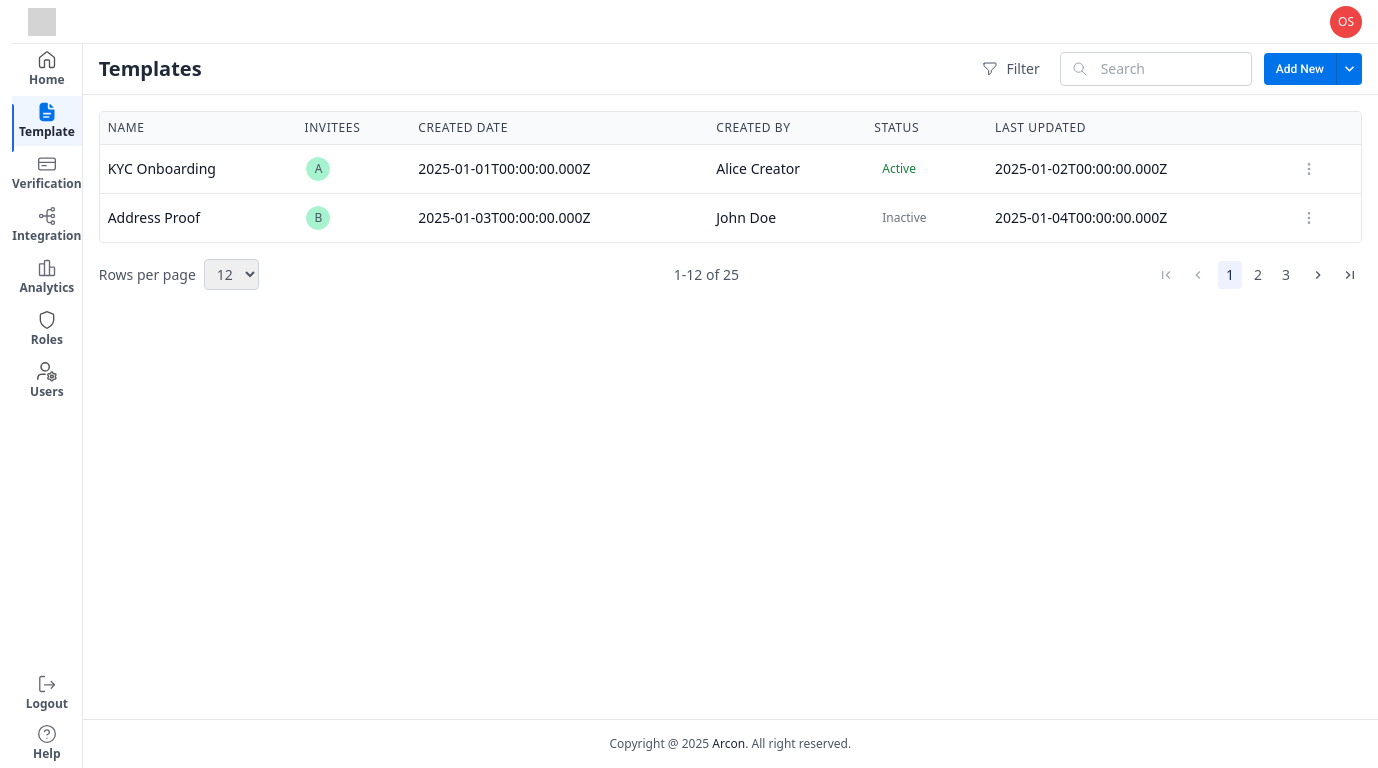
Test: Templates page › changes page size and resets page; range text updates
expect the text "1-12 of 25" is shown: met, box [674, 264, 739, 284]
Step 1. Select "24" in the dropdown showing "12" → (231, 274), box [204, 259, 259, 290]
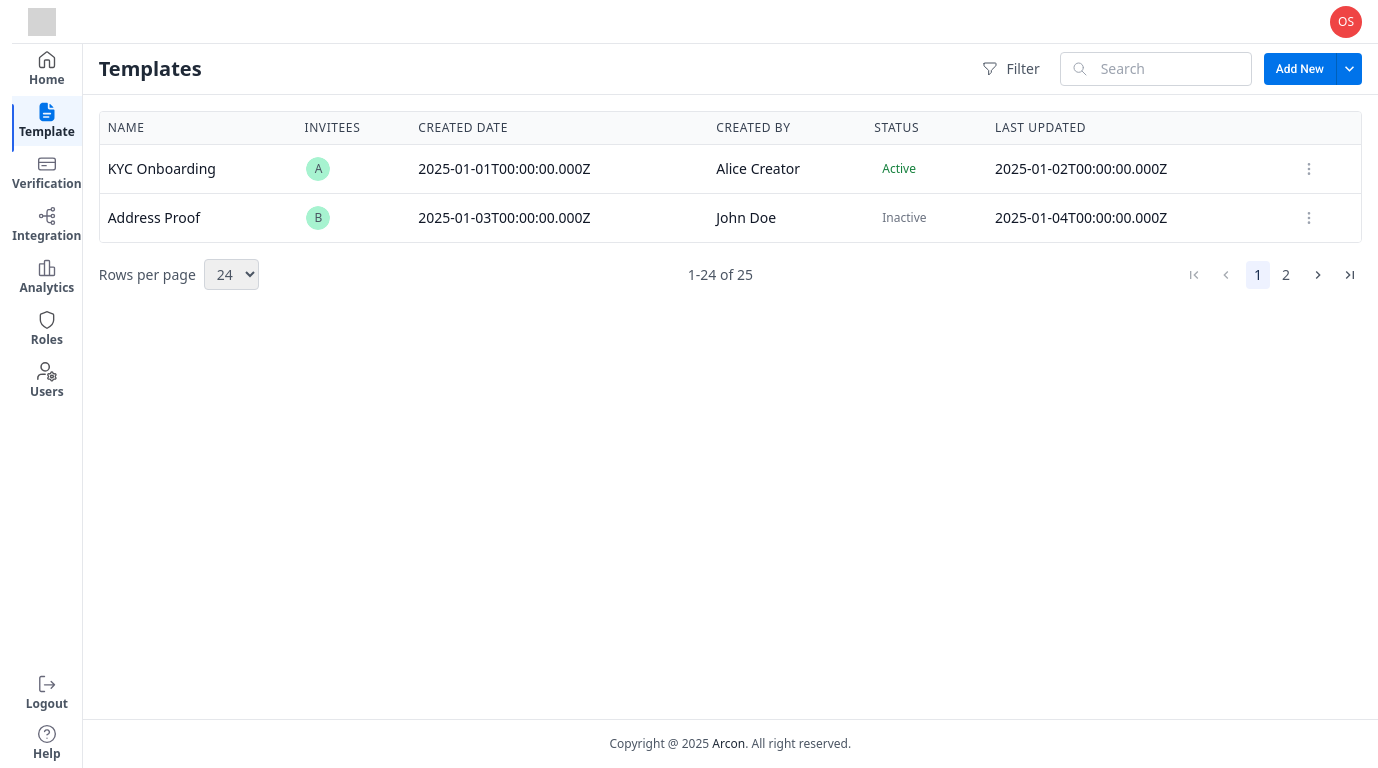
expect the text "1-24 of 25" is shown: met, box [688, 264, 753, 284]
